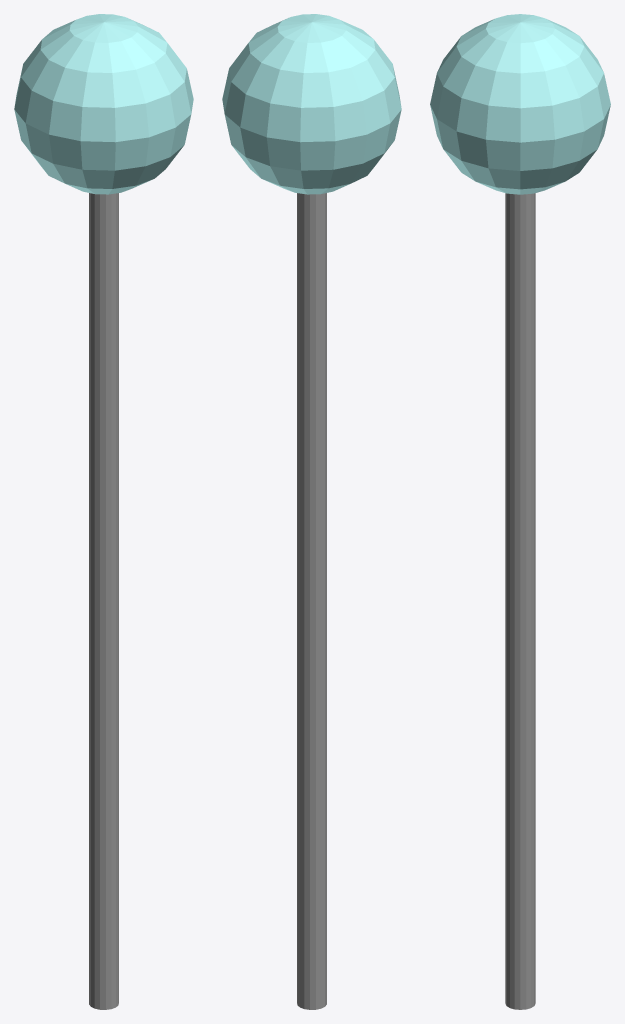
Rendered from street_lamp_round.fbx.
The picture shows the model from 3 angles, left to right: view 1: azimuth 30°, elevation 25°; view 2: azimuth 150°, elevation 25°; view 3: azimuth 270°, elevation 25°; orthographic projection.
Visible parts, largest first — view 1: Street_Lamp_Round; view 2: Street_Lamp_Round; view 3: Street_Lamp_Round.
Boxes of the visible parts, bbox=[...] form: Street_Lamp_Round: bbox=[14, 14, 193, 1009]; Street_Lamp_Round: bbox=[222, 14, 401, 1009]; Street_Lamp_Round: bbox=[430, 14, 610, 1009].
Bounding box in the file's own units: 60 × 359 × 60.
